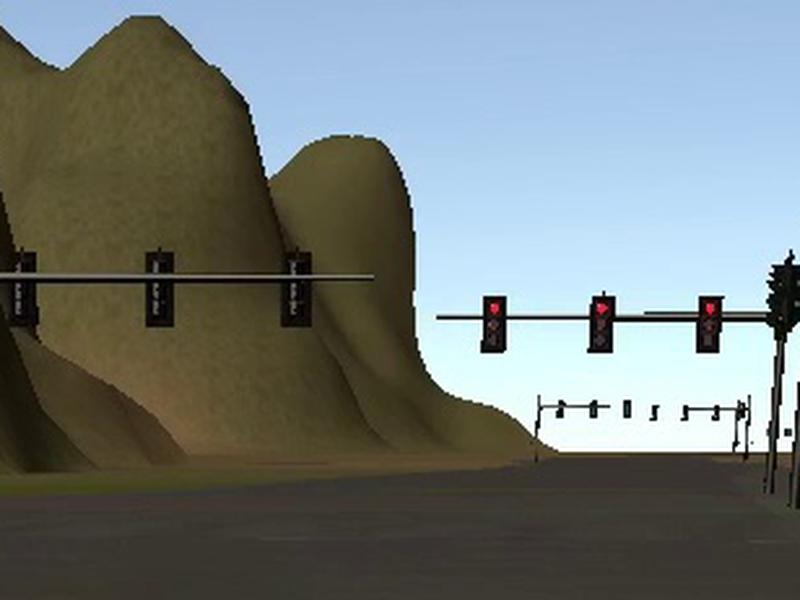Red: (588, 295, 618, 353), (697, 296, 725, 353), (483, 296, 507, 352)
